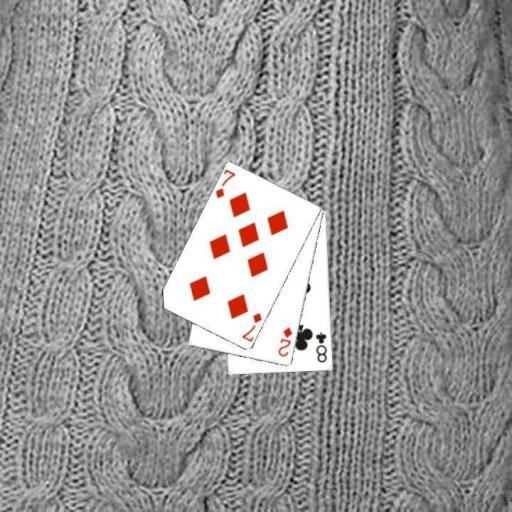card-corner: (238, 309, 263, 343), (212, 167, 236, 201), (275, 324, 294, 358), (313, 329, 328, 364)
